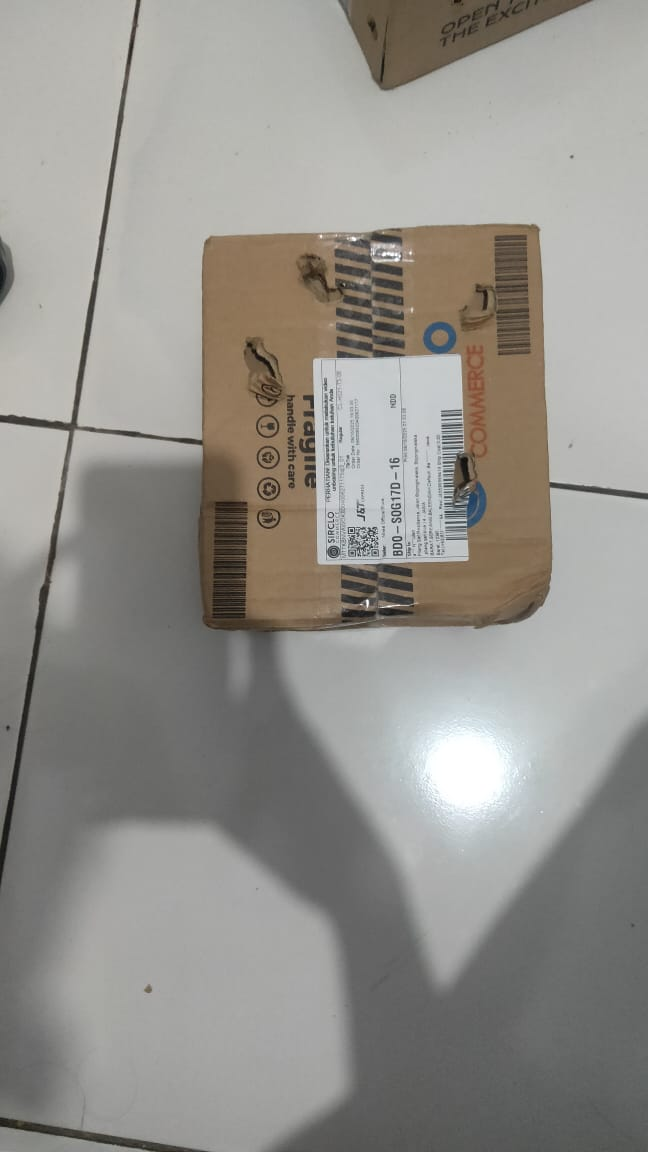damaged package: (236, 327, 284, 415), (295, 247, 347, 301), (457, 277, 506, 332), (447, 442, 479, 520)
undamaged: (198, 223, 554, 637)
